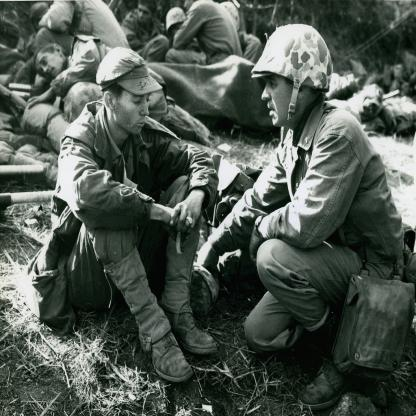Helmet: (252, 23, 334, 129)
